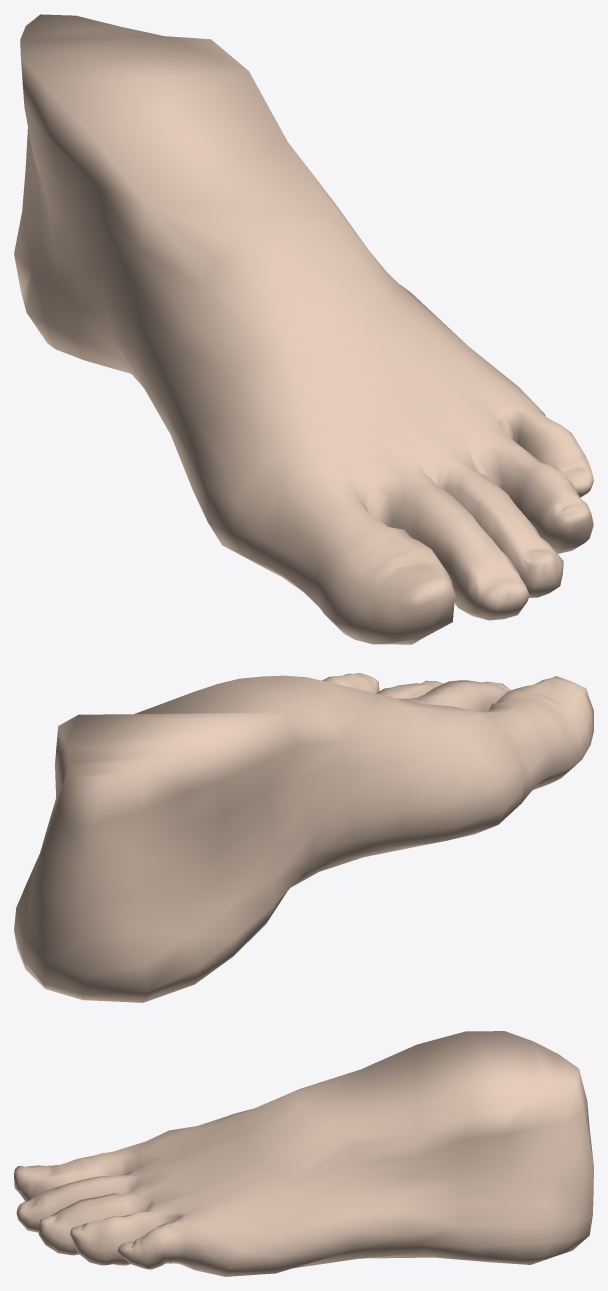
The model's file is right_foot.dae.
3 renders of one model, top to bottom at view 1: azimuth 30°, elevation 25°; view 2: azimuth 150°, elevation 25°; view 3: azimuth 270°, elevation 25°, orthographic. The views are drawn at different scales.
Visible parts, largest first — view 1: right-foot; view 2: right-foot; view 3: right-foot.
Boxes of the visible parts, <box> form: right-foot: <box>14,14,593,644</box>; right-foot: <box>14,673,593,1002</box>; right-foot: <box>14,1031,593,1276</box>.
Bounding box in the file's own units: 0.0891 × 0.2118 × 0.0751.
